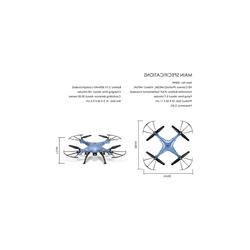drone: (141, 119, 195, 171), (64, 131, 127, 165)
